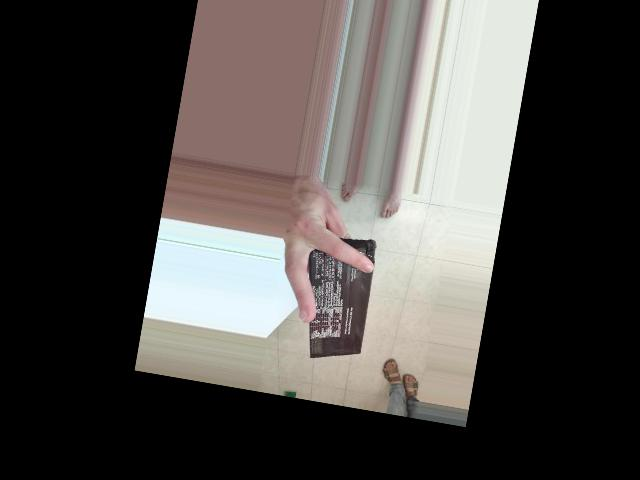chocolate: (299, 257, 444, 351)
